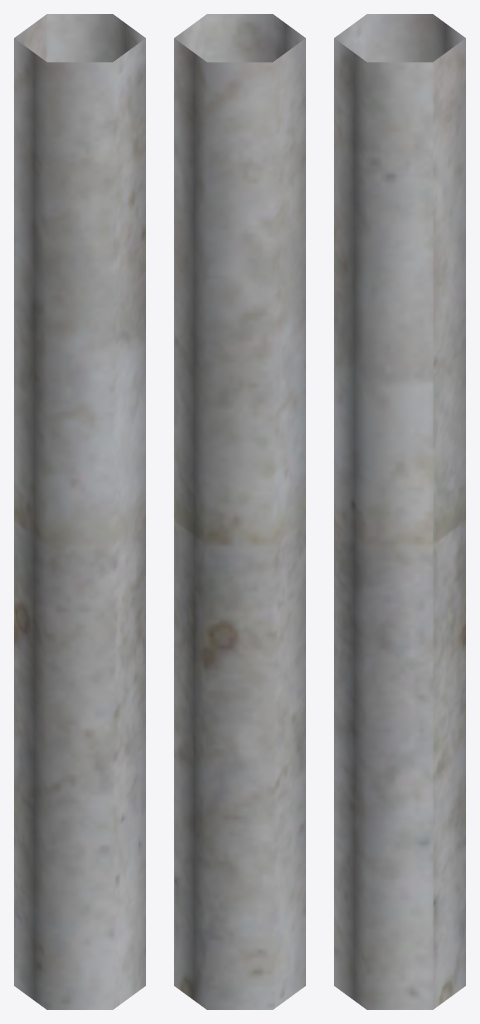
File: SM_Wires_Pipes_01p.glb
The picture shows the model from 3 angles, left to right: view 1: azimuth 90°, elevation 25°; view 2: azimuth 150°, elevation 25°; view 3: azimuth 270°, elevation 25°; orthographic projection.
Visible parts, largest first — view 1: SM_Wires_Pipes_01p; view 2: SM_Wires_Pipes_01p; view 3: SM_Wires_Pipes_01p.
Part boxes in pixels (<box>): SM_Wires_Pipes_01p: <box>14,14,145,1009</box>; SM_Wires_Pipes_01p: <box>174,14,305,1009</box>; SM_Wires_Pipes_01p: <box>334,14,465,1009</box>.
Size of the model in its own units: 0.0273 by 0.25 by 0.0315.
Materials: 1 (1 with a texture image).
